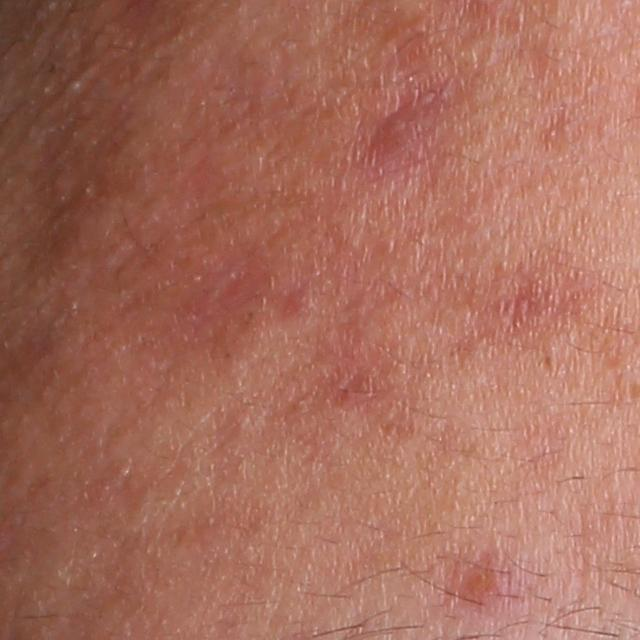papule: (371, 104, 422, 159)
